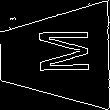M_W: (23, 32, 86, 79)
